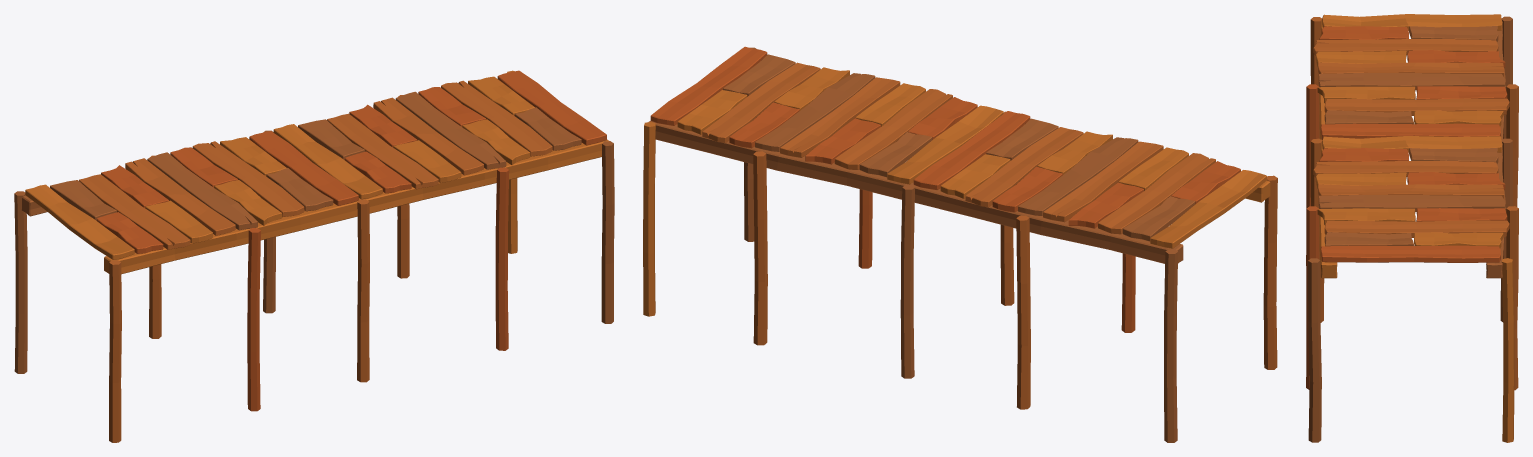
The model's file is ponte.fbx.
3 views of the same model, side by side, from view 1: azimuth 30°, elevation 25°; view 2: azimuth 150°, elevation 25°; view 3: azimuth 270°, elevation 25° (orthographic). The views are drawn at different scales.
Parts seen in each view (by area): view 1: Cube.030, Cube.014, Cube.018, Cylinder.008, Cube.009, Cube.029, Cylinder.002, Cube.008, Cube.024, Cube.001, Cube.017, Cylinder.007 (+28 smaller); view 2: Cube.031, Cube.015, Cube.018, Cylinder.003, Cylinder.009, Cube.009, Cube.029, Cube.017, Cube.001, Cube.008, Cube.024, Cube.002 (+28 smaller); view 3: Cube.009, Cube.023, Cube.007, Cube.029, Cylinder.005, Cube.024, Cube.008, Cube.001, Cube.017, Cube.002, Cube.018, Cylinder.004 (+30 smaller).
Boxes of the visible parts, box(x1,y1,x2,y2) form: Cube.030: box(104, 200, 358, 274); Cube.014: box(359, 139, 609, 213); Cube.018: box(25, 184, 134, 259); Cylinder.008: box(247, 228, 260, 411); Cube.009: box(497, 70, 606, 145); Cube.029: box(249, 131, 358, 205); Cylinder.002: box(495, 167, 509, 350); Cube.008: box(441, 80, 552, 156); Cube.024: box(192, 141, 304, 216); Cube.001: box(327, 113, 438, 189); Cube.017: box(79, 174, 190, 249); Cylinder.007: box(109, 260, 121, 442); Cube.031: box(913, 185, 1183, 263); Cube.015: box(649, 120, 913, 199); Cube.018: box(1150, 170, 1266, 248); Cylinder.003: box(753, 151, 767, 345); Cylinder.009: box(1016, 215, 1030, 409); Cube.009: box(650, 46, 767, 125); Cube.029: box(913, 111, 1030, 189); Cube.017: box(1098, 153, 1215, 234); Cube.001: box(834, 89, 952, 169); Cube.008: box(702, 62, 820, 142); Cube.024: box(965, 127, 1083, 207); Cube.002: box(887, 105, 1003, 184); Cube.009: box(1320, 245, 1500, 262); Cube.023: box(1318, 73, 1505, 90); Cube.007: box(1318, 195, 1505, 211); Cube.029: box(1320, 123, 1500, 139); Cylinder.005: box(1308, 258, 1321, 442); Cube.024: box(1324, 98, 1509, 115); Cube.008: box(1324, 220, 1509, 237); Cube.001: box(1313, 160, 1498, 177); Cube.017: box(1313, 39, 1498, 55); Cube.002: box(1322, 136, 1502, 152); Cube.018: box(1322, 14, 1502, 30); Cylinder.004: box(1501, 258, 1514, 442).
Size of the model in its own units: 720 by 326 by 262.
